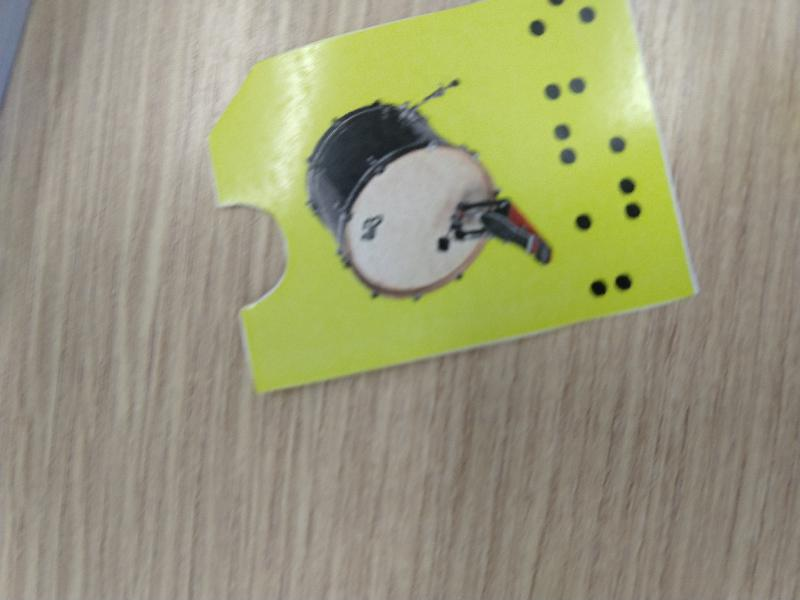bumbo: (207, 1, 700, 403)
